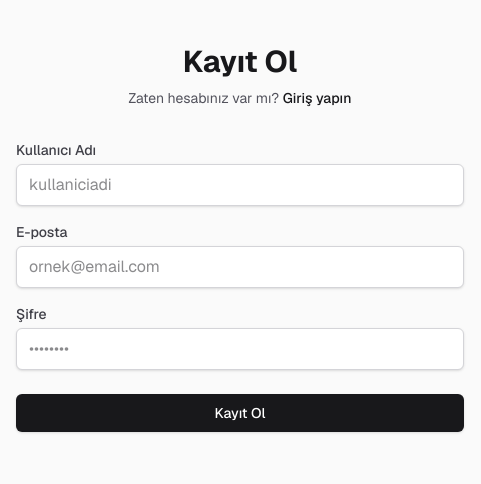
Test: authentication pages › shows sign-up errors from Error instances
The width and height of the screenshot is (481, 484).
Type "tester" into the field labelled "Kullanıcı Adı" at (240, 185), box [16,164,464,206]
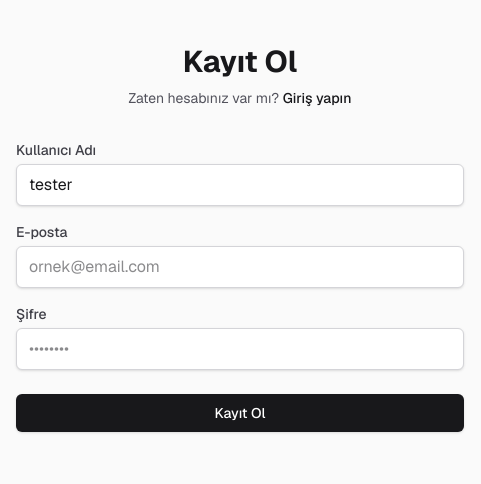
Type "user@example.com" into the field labelled "E-posta" at (240, 267), box [16,246,464,288]
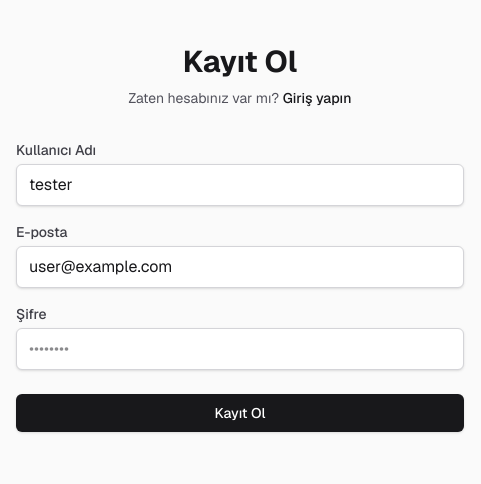
Type "secret123" into the password field labelled "Şifre" at (240, 349), box [16,328,464,370]
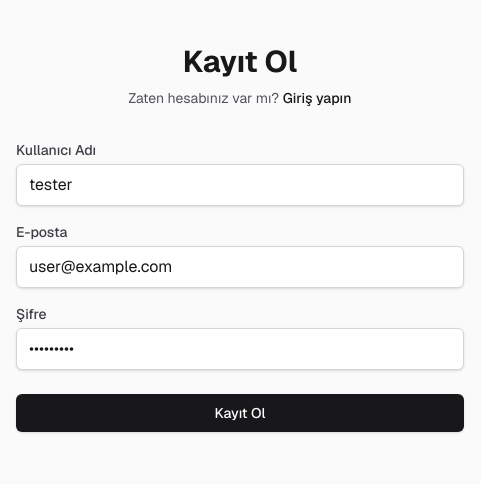
Click the button "Kayıt Ol" at (240, 413), box [16,394,464,432]
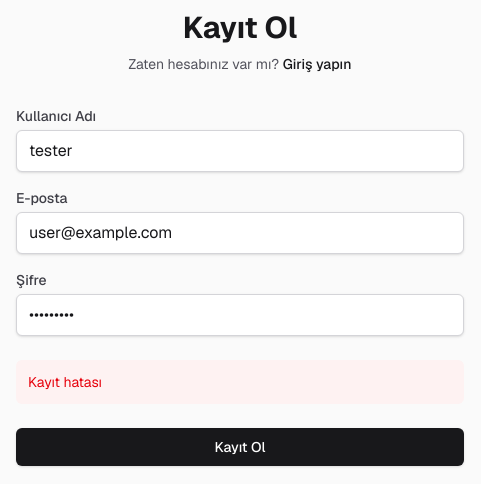
Check: the text "Kayıt hatası" is shown, box [16,360,464,404]
